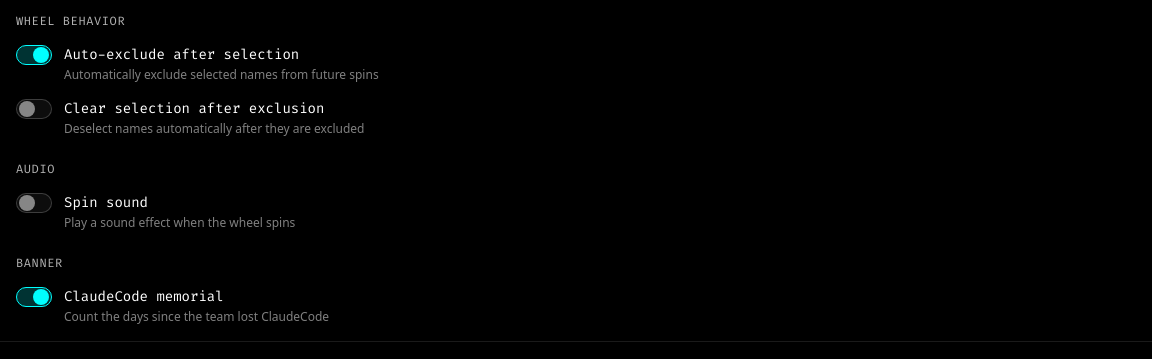
SettingsPanel › conditional rendering › should hide clear selection toggle when auto-exclude is toggled off
Expected: the text "Clear selection after exclusion" is shown, x1=64 y1=99 x2=324 y2=118
Click the switch named "Auto-exclude after selection" at point(34, 55), box x1=16 y1=45 x2=52 y2=65
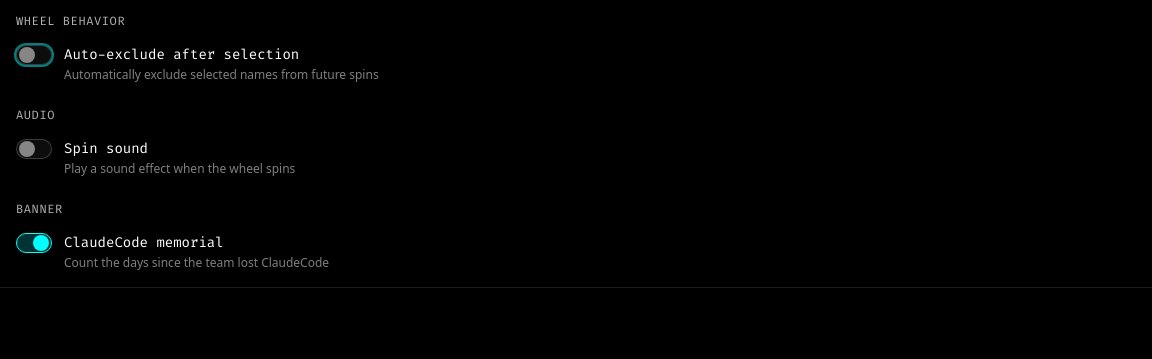
Now the text "Clear selection after exclusion" is gone
